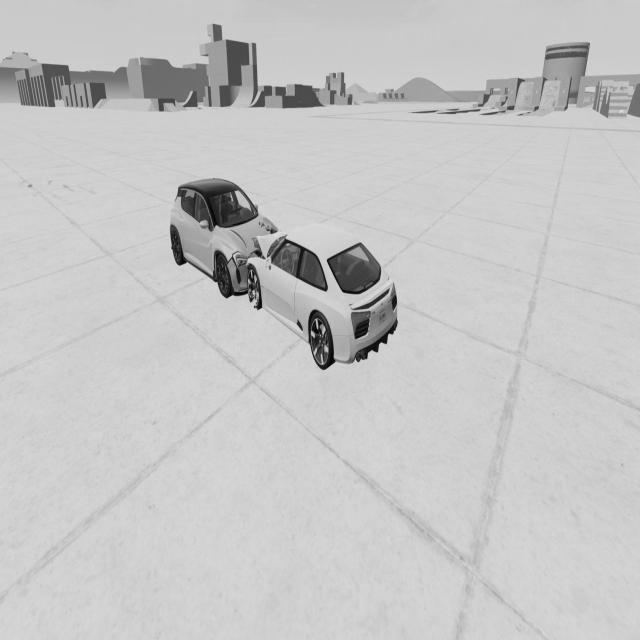accident: (168, 173, 402, 384)
